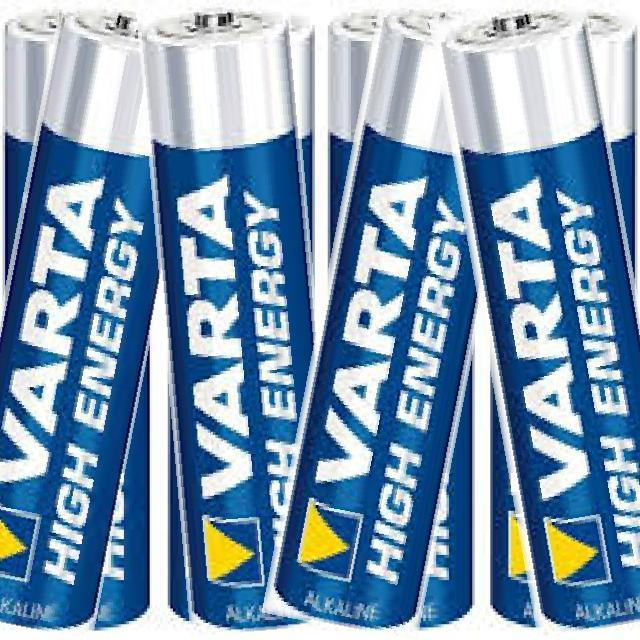Battery: (265, 7, 482, 630), (437, 8, 639, 628), (140, 14, 316, 635), (3, 9, 170, 634), (325, 18, 474, 632), (6, 18, 154, 634)
